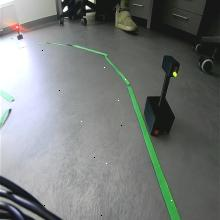green: (160, 54, 180, 77)
